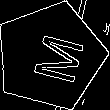M_W: (19, 27, 82, 85)
